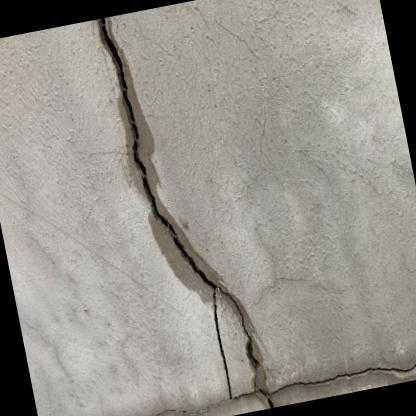crack: (96, 16, 416, 416)
